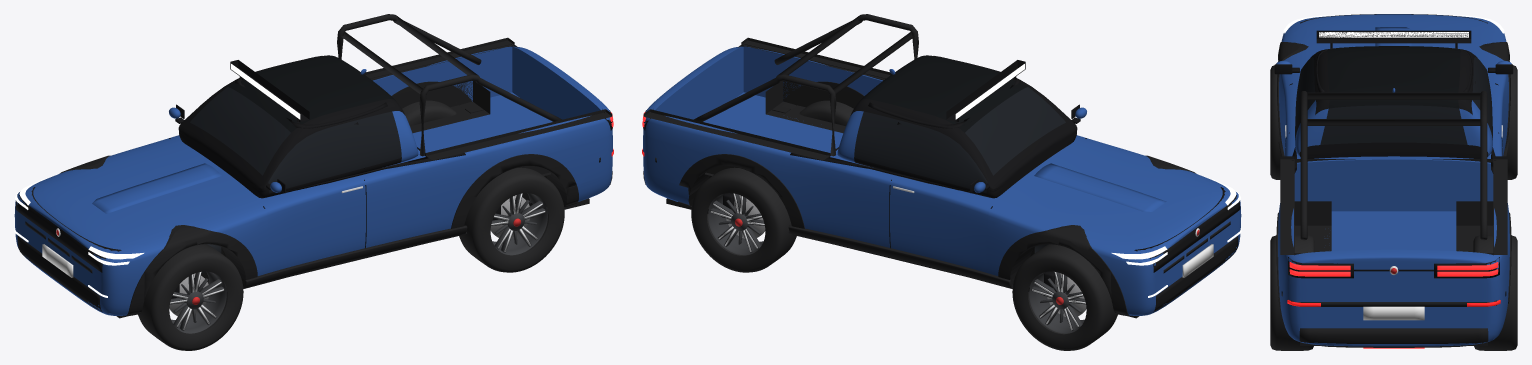
File: offroad.glb
3 renders of one model, left to right at view 1: azimuth 30°, elevation 25°; view 2: azimuth 150°, elevation 25°; view 3: azimuth 270°, elevation 25°, orthographic. The views are drawn at different scales.
Visible parts, largest first — view 1: fender_rear_left_panel.007, hood_panel.007, side_windows_left_glass.007, door_front_left_panel.007, roof_glass.007, bumper_front_panel.007, wheel_front_left_tire.007, wheel_rear_left_tire.007, fender_rear_right_panel.007, windshield_glass.007, fender_front_left_panel.007, body_shell_panel.007 (+29 smaller); view 2: fender_rear_right_panel.007, hood_panel.007, side_windows_right_glass.007, door_front_right_panel.007, roof_glass.007, bumper_front_panel.007, wheel_front_right_tire.007, wheel_rear_right_tire.007, windshield_glass.007, fender_front_right_panel.007, body_shell_panel.007, fender_rear_left_panel.007 (+29 smaller); view 3: body_shell_panel.007, trunk_panel.007, roof_glass.007, rear_window_glass.007, hood_panel.007, diffuser.023, side_windows_right_glass.007, side_windows_left_glass.007, fender_rear_right_panel.007, fender_rear_left_panel.007, light_bar, bumper_rear_panel.007 (+36 smaller).
Boxes of the visible parts, box(x1,y1,x2,y2) form: fender_rear_left_panel.007: box(360, 107, 612, 247); hood_panel.007: box(43, 141, 259, 244); side_windows_left_glass.007: box(212, 99, 405, 198); door_front_left_panel.007: box(257, 175, 365, 273); roof_glass.007: box(228, 55, 418, 162); bumper_front_panel.007: box(14, 180, 143, 314); wheel_front_left_tire.007: box(138, 244, 243, 350); wheel_rear_left_tire.007: box(459, 167, 564, 272); fender_rear_right_panel.007: box(373, 46, 579, 121); windshield_glass.007: box(190, 87, 290, 175); fender_front_left_panel.007: box(126, 200, 268, 279); body_shell_panel.007: box(24, 99, 604, 315); fender_rear_right_panel.007: box(643, 70, 895, 247); hood_panel.007: box(996, 141, 1212, 244); side_windows_right_glass.007: box(850, 99, 1036, 198); door_front_right_panel.007: box(890, 175, 998, 273); roof_glass.007: box(837, 55, 1027, 162); bumper_front_panel.007: box(1112, 180, 1241, 314); wheel_front_right_tire.007: box(1012, 244, 1117, 350); wheel_rear_right_tire.007: box(691, 167, 796, 272); windshield_glass.007: box(965, 87, 1065, 175); fender_front_right_panel.007: box(987, 200, 1129, 275); body_shell_panel.007: box(651, 99, 1231, 315); fender_rear_left_panel.007: box(731, 46, 882, 102); body_shell_panel.007: box(1291, 156, 1496, 346); trunk_panel.007: box(1306, 249, 1481, 323); roof_glass.007: box(1295, 46, 1492, 156); rear_window_glass.007: box(1320, 105, 1467, 144); hood_panel.007: box(1306, 15, 1481, 61); diffuser.023: box(1299, 328, 1488, 347); side_windows_right_glass.007: box(1384, 49, 1492, 158); side_windows_left_glass.007: box(1295, 49, 1397, 158); fender_rear_right_panel.007: box(1481, 131, 1509, 323); fender_rear_left_panel.007: box(1278, 131, 1306, 323); light_bar: box(1316, 30, 1471, 43); bumper_rear_panel.007: box(1280, 300, 1508, 345).
Bounding box in the file's own units: 5.17 × 1.88 × 1.98.
